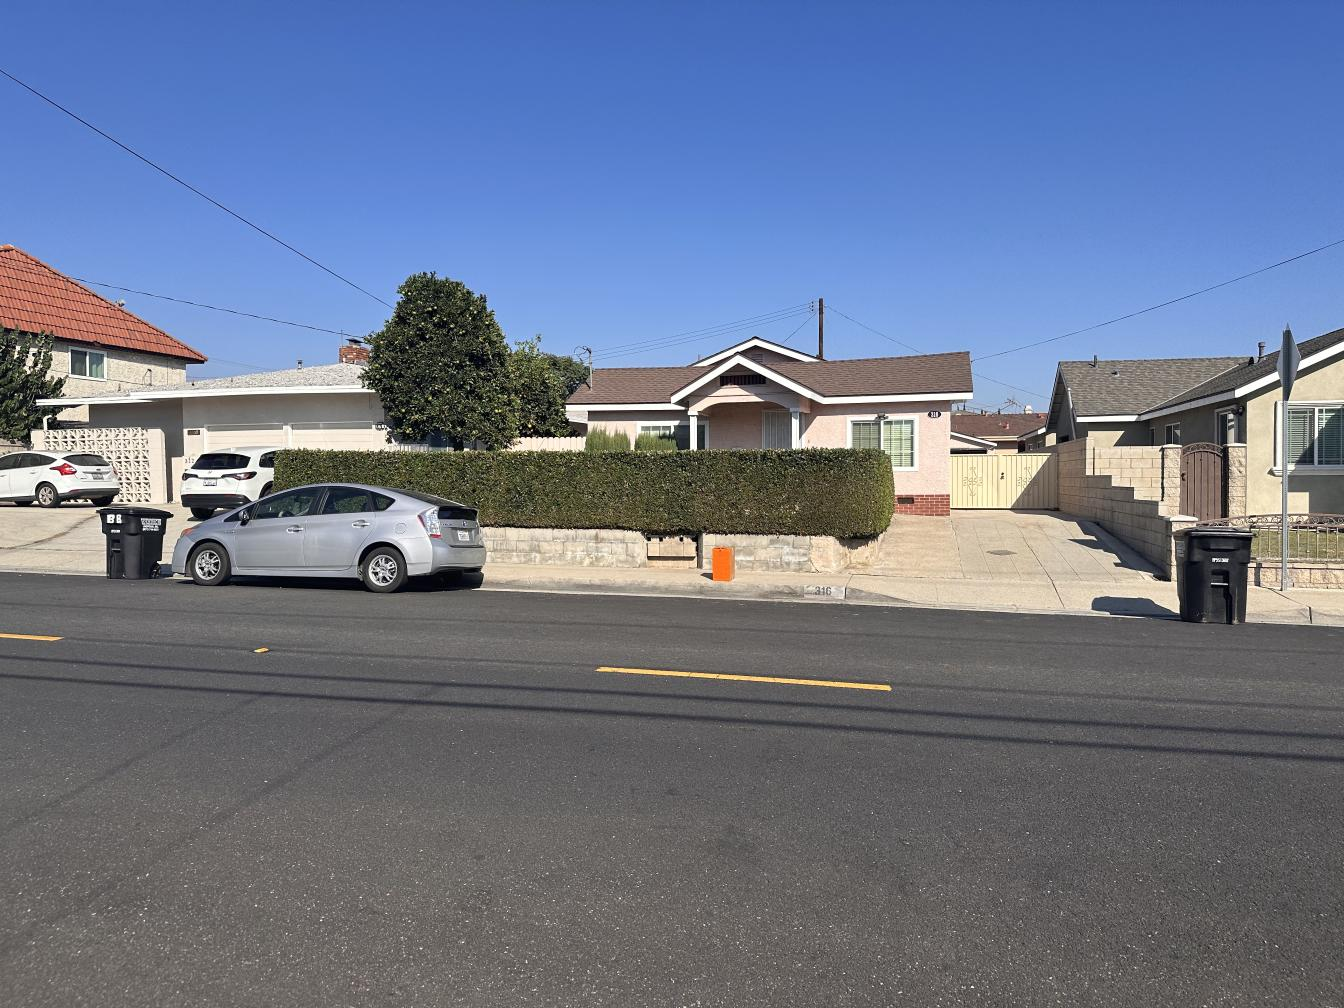curbs-laRr: (484, 572, 702, 595), (742, 581, 860, 606)
orange box: (713, 544, 735, 581)
